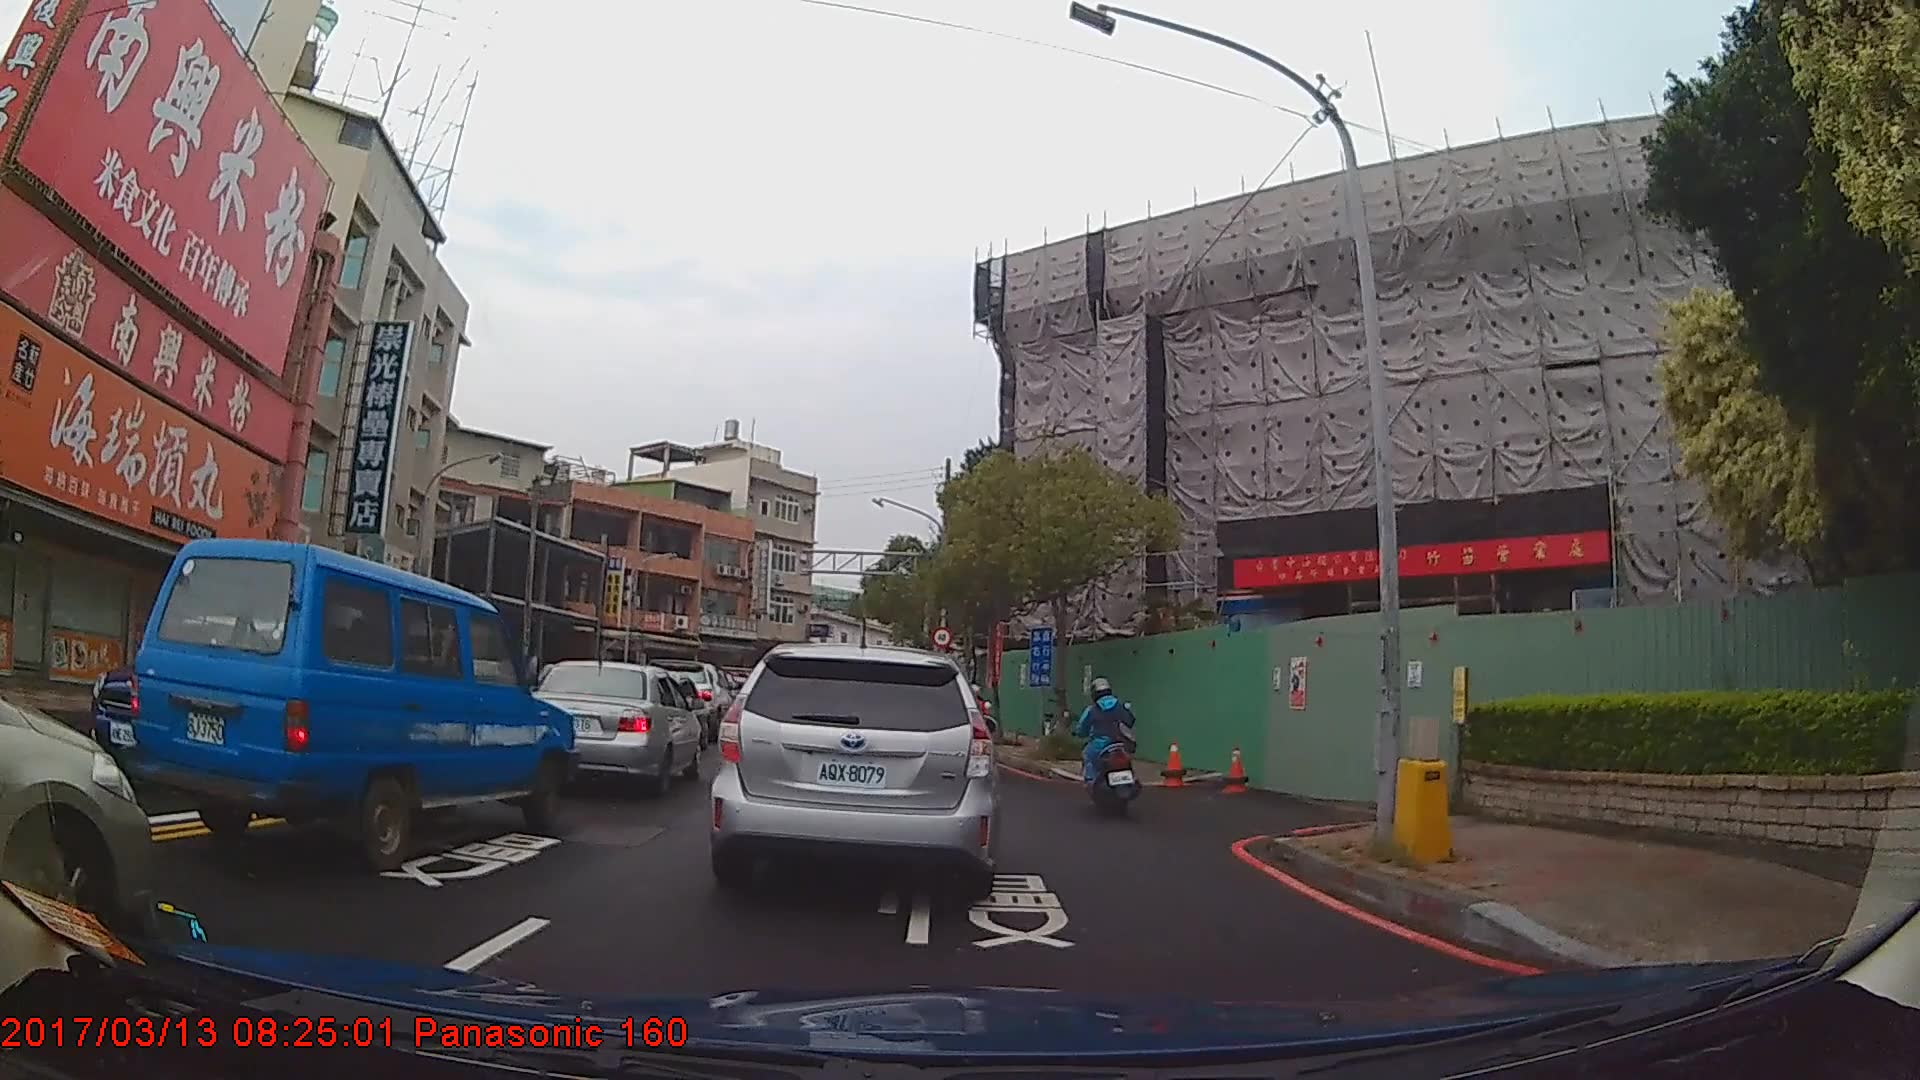rider: (1081, 682, 1139, 819)
vehicle: (126, 537, 578, 873), (705, 644, 1004, 897), (522, 660, 701, 795)
